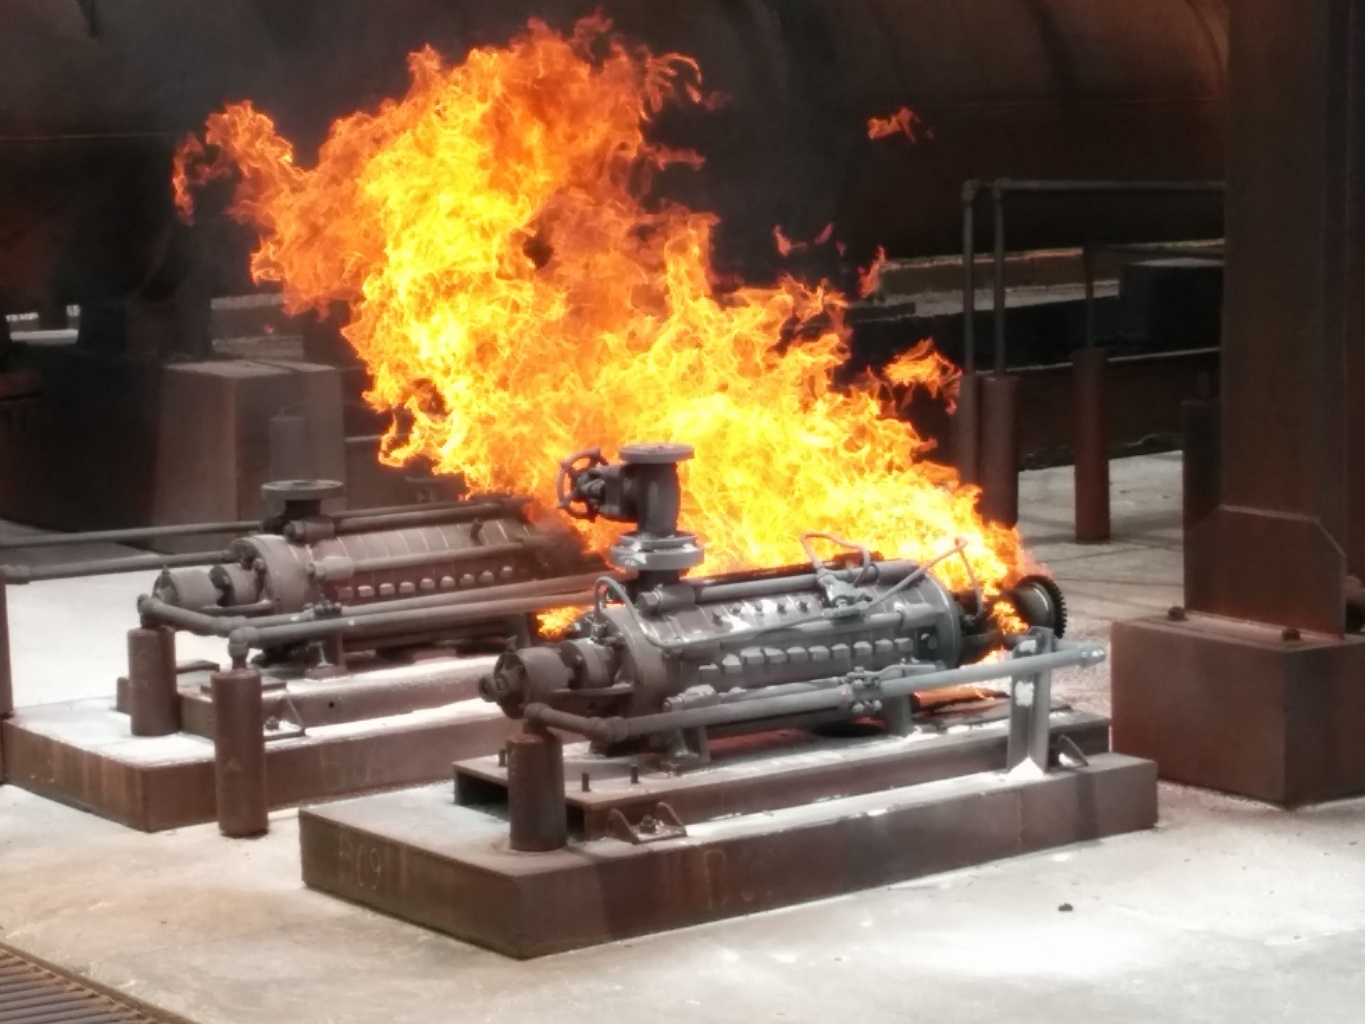fire: (255, 22, 1022, 608)
